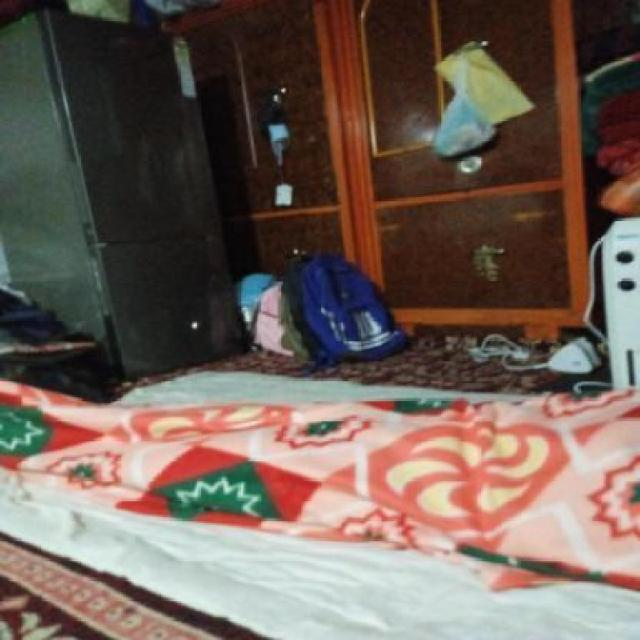backpack: (294, 248, 414, 366)
